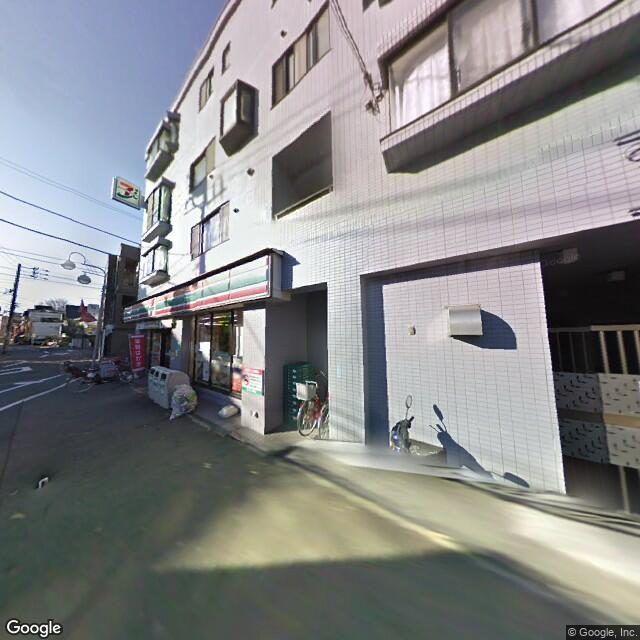7-eleven: (120, 250, 277, 324), (113, 176, 140, 207)
